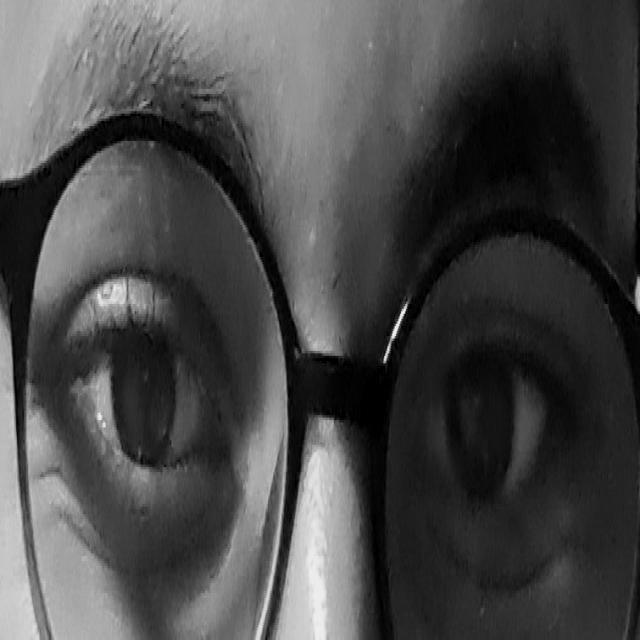real: (32, 162, 626, 610)
